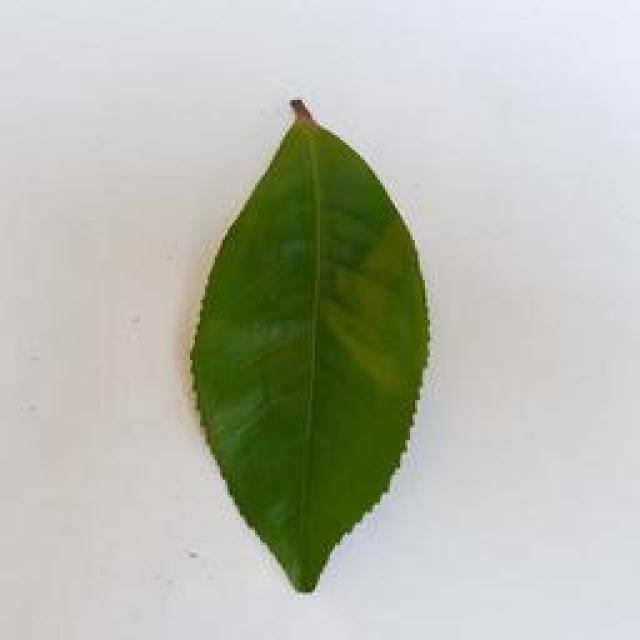Healthy: (189, 93, 431, 591)
